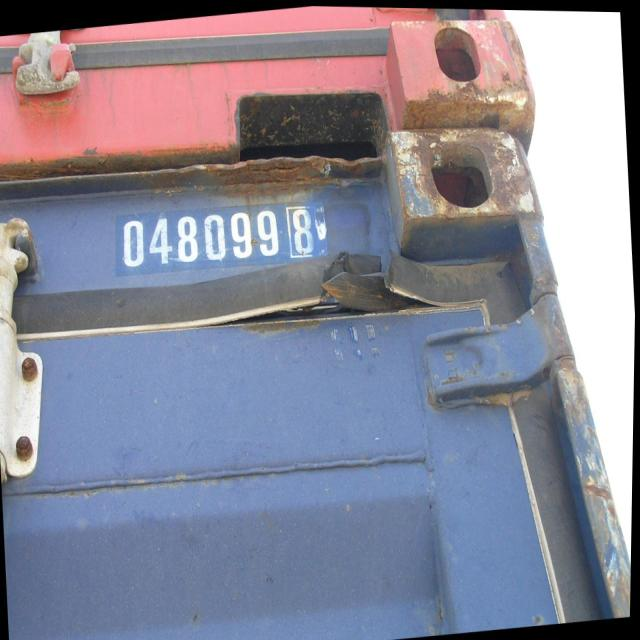hole: (141, 233, 491, 352)
